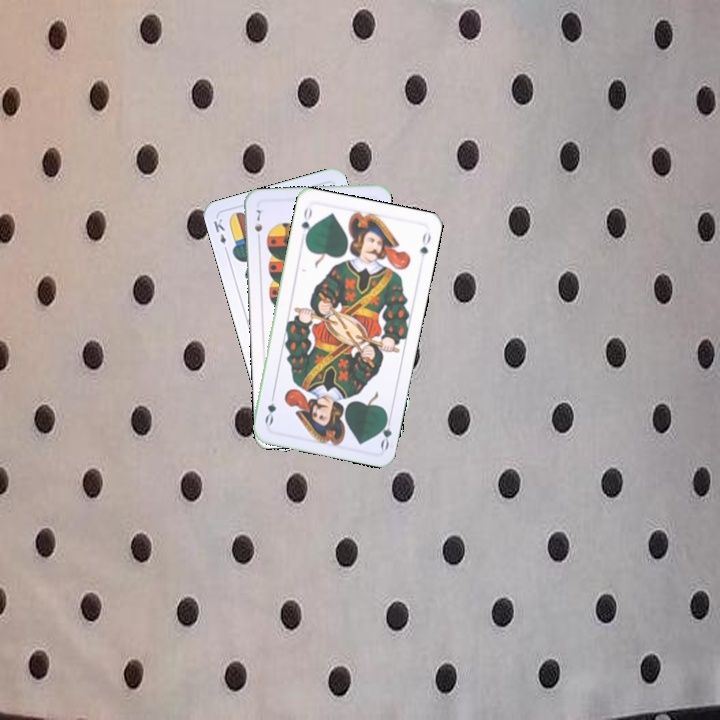EK: (209, 214, 231, 255)
GO: (375, 411, 394, 452), (297, 203, 315, 243)
S7: (251, 206, 265, 244)
